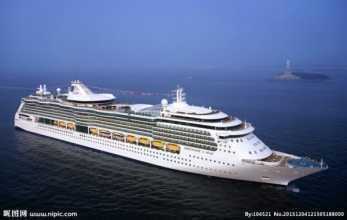youlun: (7, 79, 324, 185)
